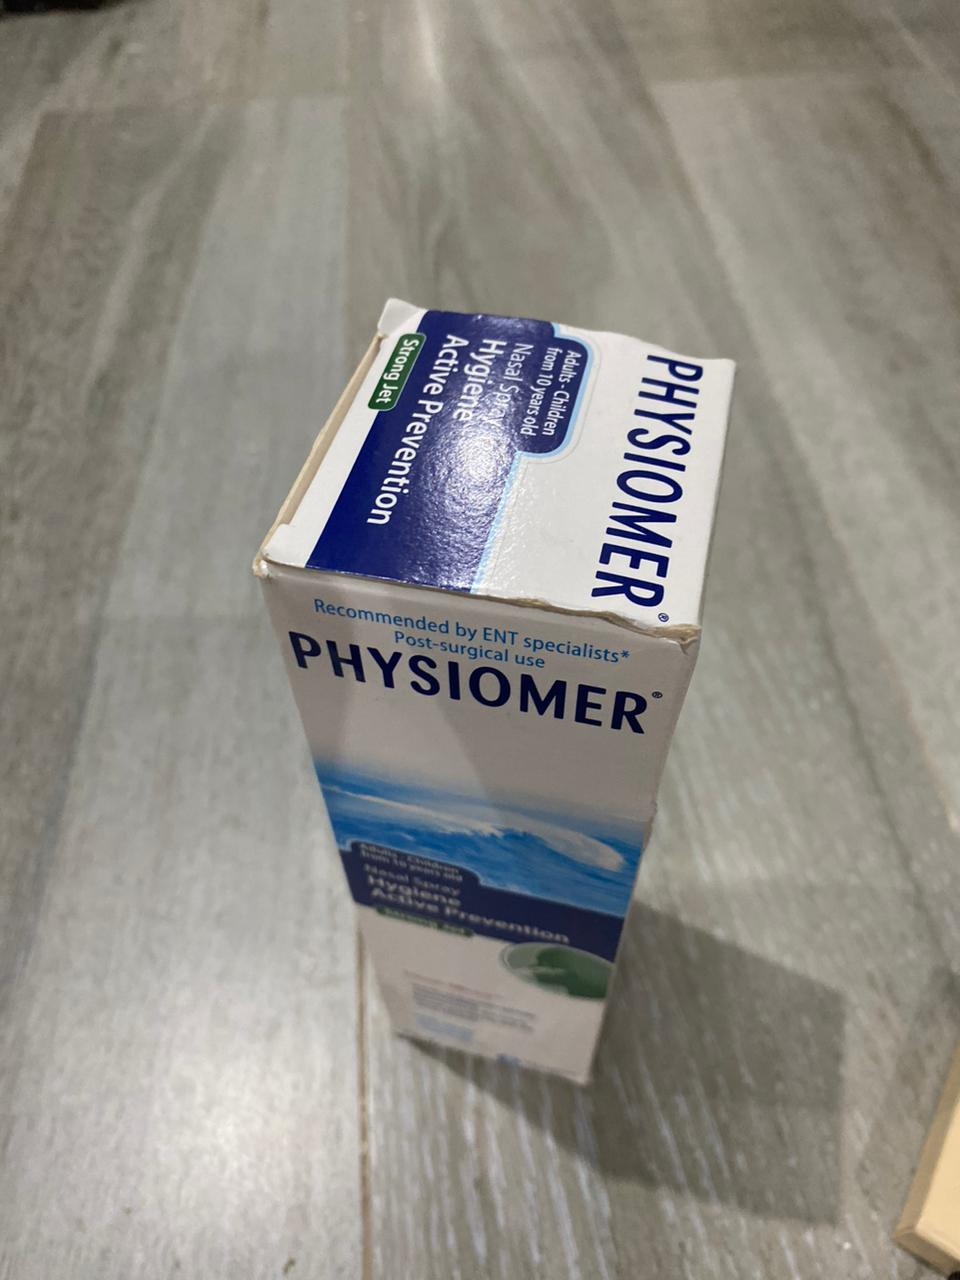Physiomer: (250, 287, 742, 1096)
